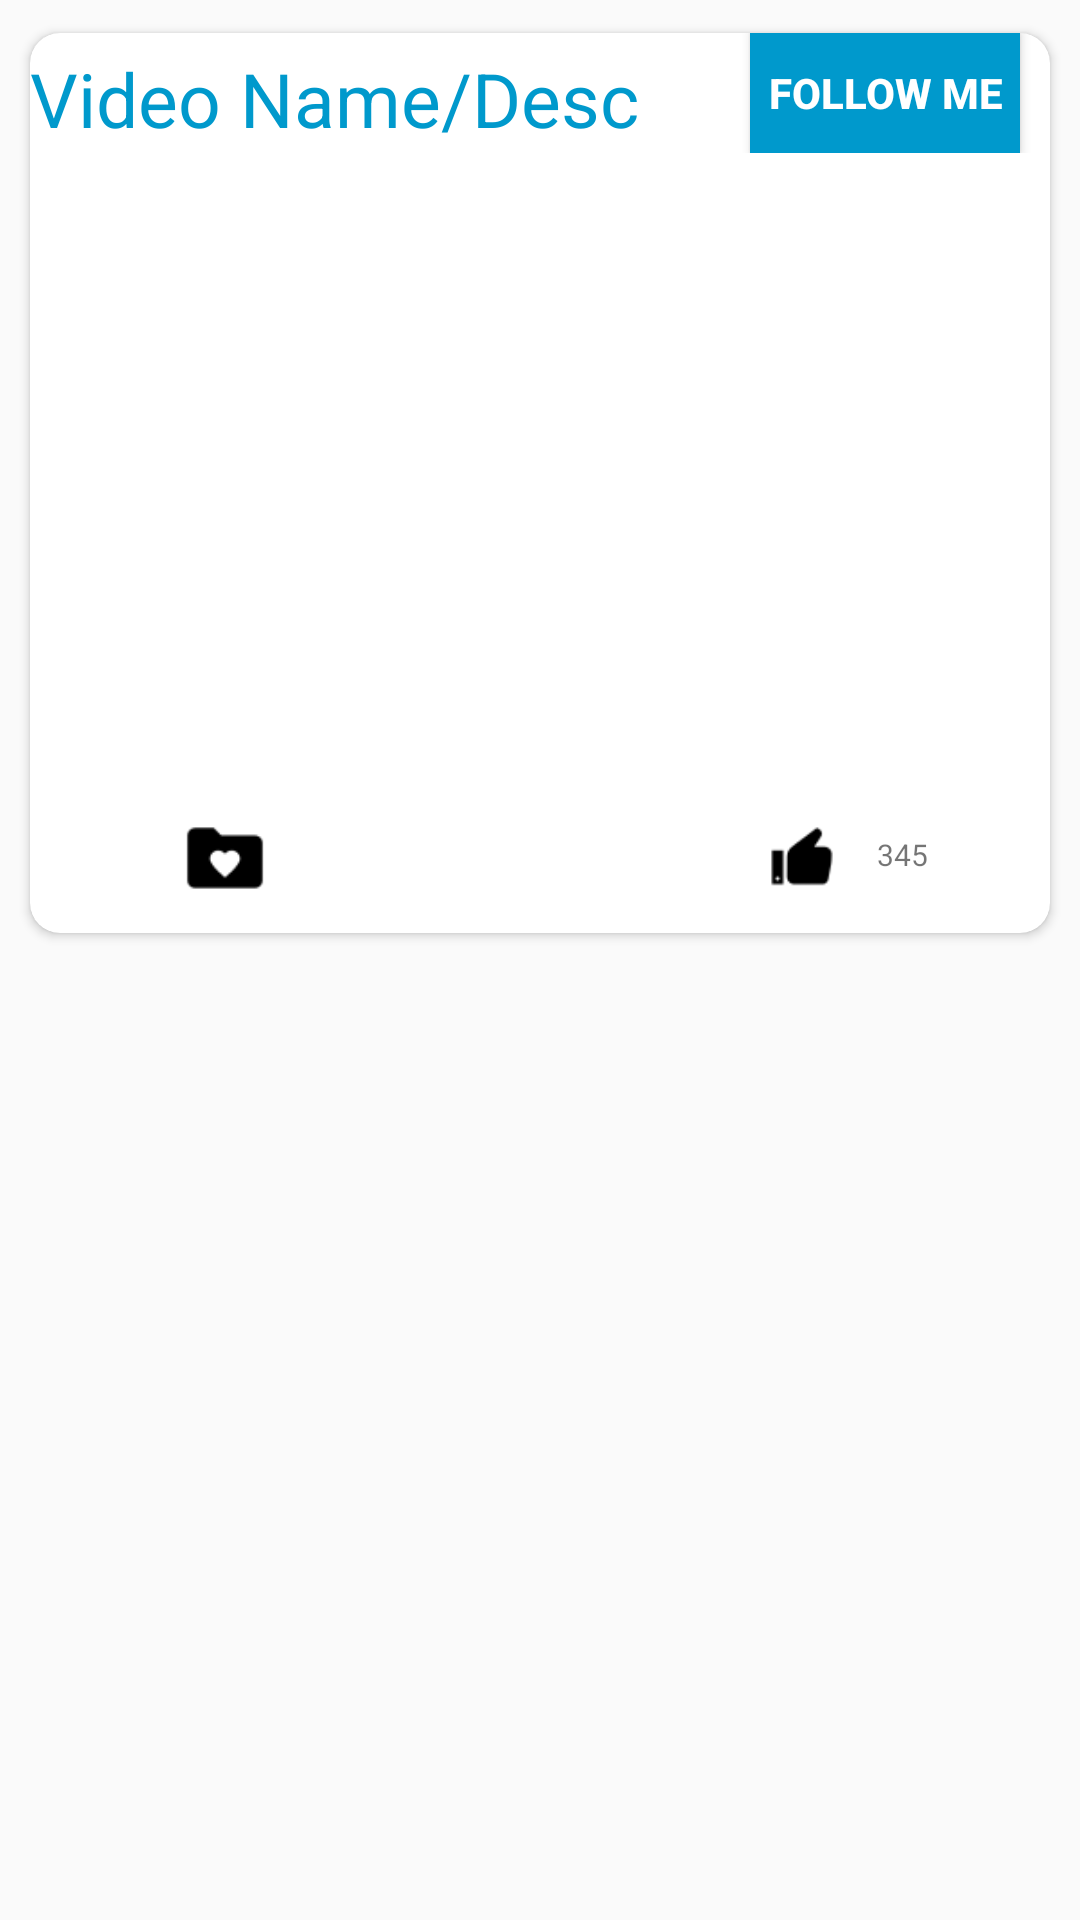

Where icons sit on this 1080px×1920px app screen, as (x1, y1, x2, y2):
favorite: (187, 827, 263, 889)
like: (771, 827, 833, 886)
